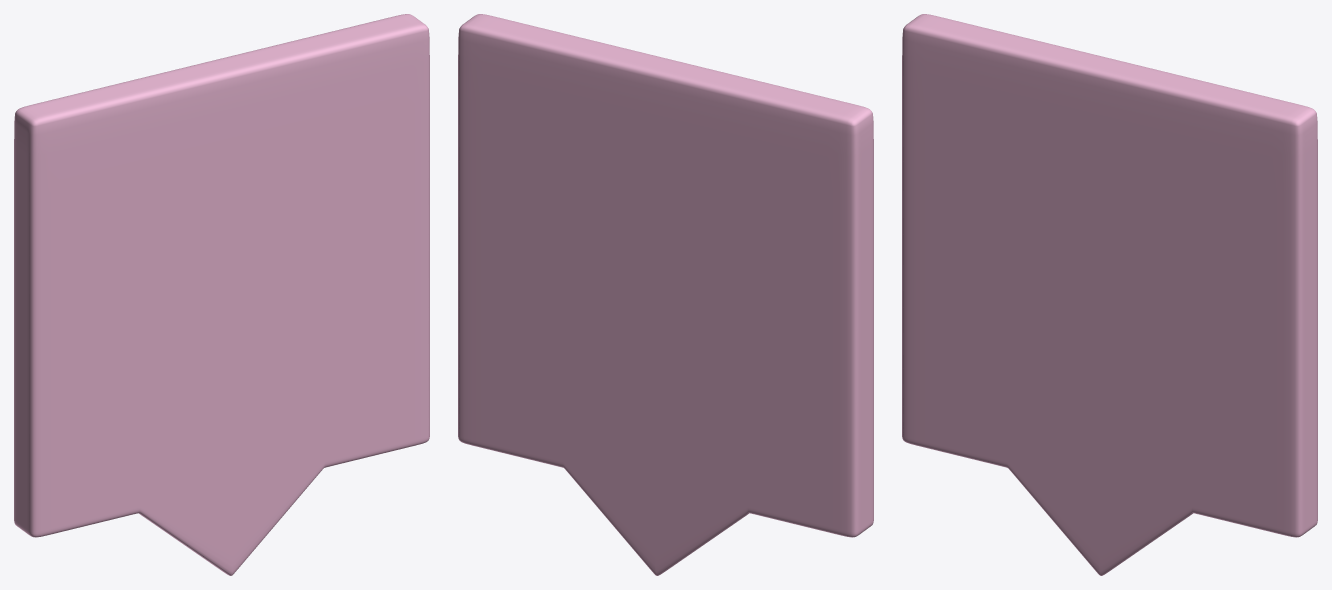
Rendered from tooltip.glb.
3 views of the same model, side by side, from view 1: azimuth 30°, elevation 25°; view 2: azimuth 150°, elevation 25°; view 3: azimuth 330°, elevation 25° (orthographic).
Parts seen in each view (by area): view 1: Grasslands_Tooltip; view 2: Grasslands_Tooltip; view 3: Grasslands_Tooltip.
Part boxes in pixels (left/top/right/bottom): Grasslands_Tooltip: left=14, top=14, right=429, bottom=575; Grasslands_Tooltip: left=458, top=14, right=873, bottom=575; Grasslands_Tooltip: left=902, top=14, right=1317, bottom=575.
Size of the model in its own units: 1.09 by 1.31 by 0.0992.
